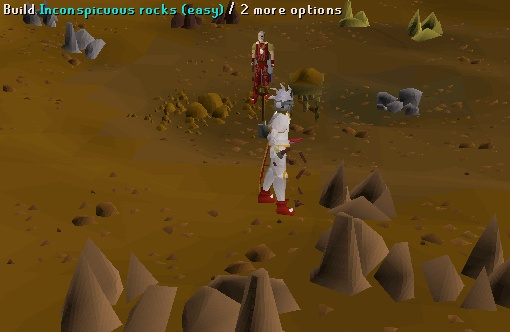copper: (307, 203, 424, 315)
gold: (402, 6, 451, 48), (336, 1, 374, 31)
iron: (167, 1, 207, 36)
tin: (59, 16, 114, 70)
